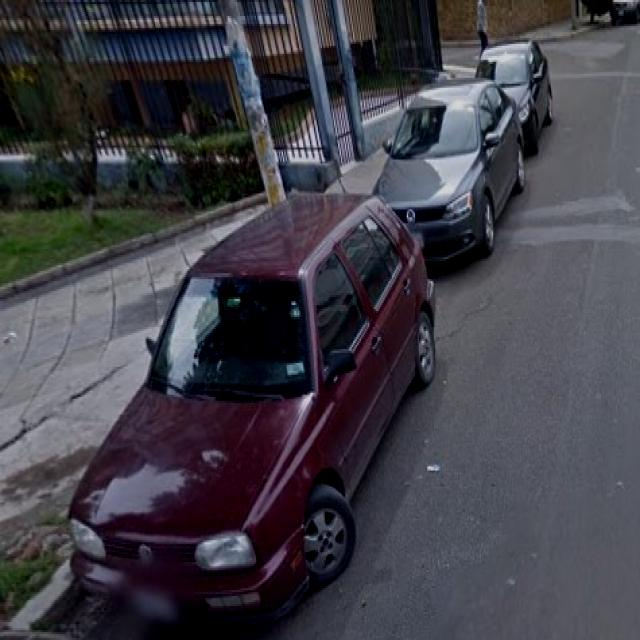car: (73, 201, 447, 640), (376, 51, 506, 217)
